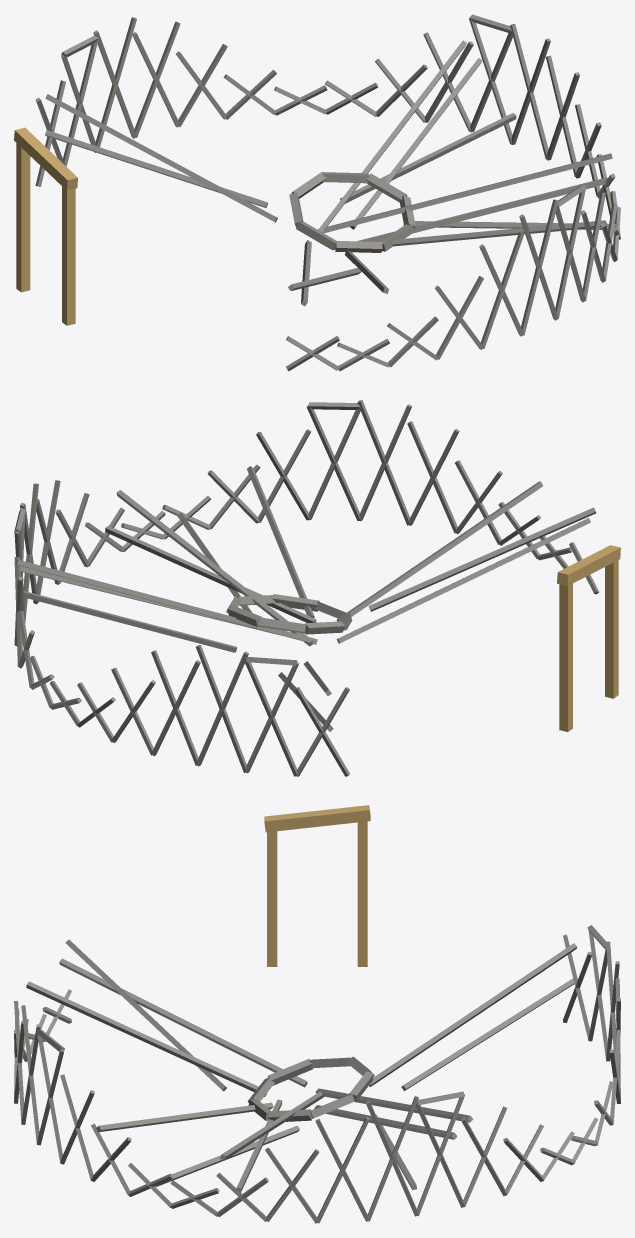
File: prop_ger_ruin.glb
The picture shows the model from 3 angles, top to bottom: view 1: azimuth 30°, elevation 25°; view 2: azimuth 150°, elevation 25°; view 3: azimuth 270°, elevation 25°; orthographic projection.
Parts seen in each view (by area): view 1: prop_ger_ruin_mesh; view 2: prop_ger_ruin_mesh; view 3: prop_ger_ruin_mesh.
Part boxes in pixels (x1,y1,x2,y2): prop_ger_ruin_mesh: (14, 14, 620, 371); prop_ger_ruin_mesh: (14, 400, 620, 776); prop_ger_ruin_mesh: (14, 805, 620, 1223).
Bounding box in the file's own units: 6.13 × 1.75 × 6.03.
